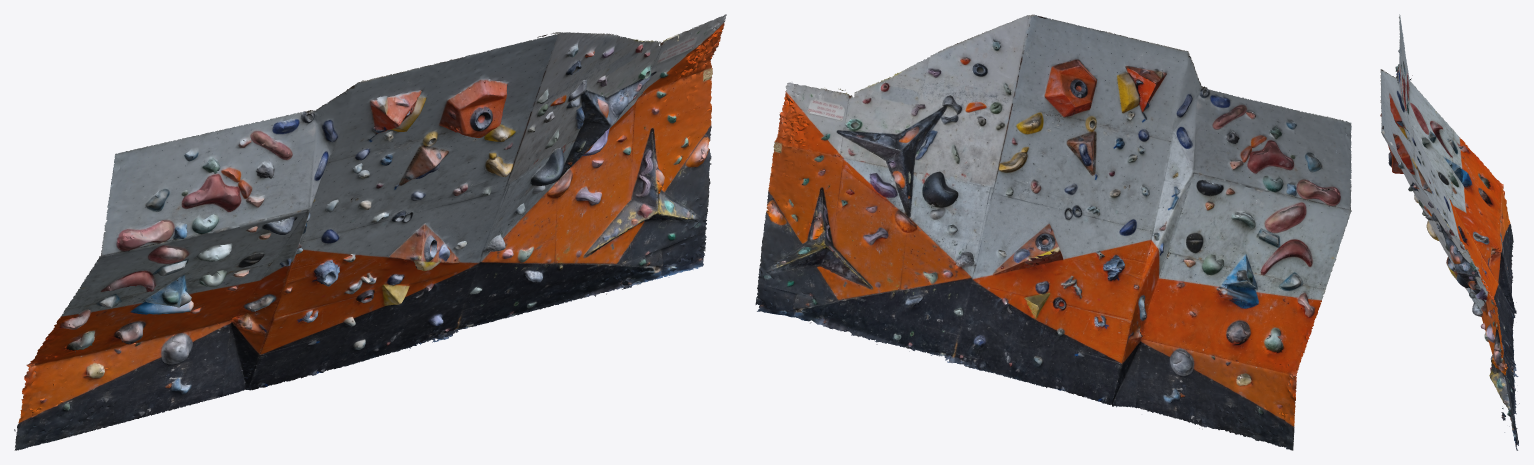
Rendered from plaquita_peru_beach_-_mayo_2023 (1).glb.
3 views of the same model, side by side, from view 1: azimuth 30°, elevation 25°; view 2: azimuth 150°, elevation 25°; view 3: azimuth 270°, elevation 25° (orthographic). The views are drawn at different scales.
Parts seen in each view (by area): view 1: Object_2; view 2: Object_2; view 3: Object_2.
Part boxes in pixels (<box>): Object_2: <box>14,14,726,450</box>; Object_2: <box>755,14,1351,450</box>; Object_2: <box>1380,14,1519,450</box>.
Bounding box in the file's own units: 11.4 × 6.04 × 3.06.
Materials: 1 (1 with a texture image).
